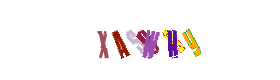8: (99, 0, 179, 80)
9: (132, 0, 212, 80)
A: (90, 0, 170, 80)
H: (145, 0, 225, 80)
S: (96, 0, 176, 80)
W: (110, 0, 190, 80)
X: (77, 0, 157, 80)
Y: (152, 0, 232, 80)
